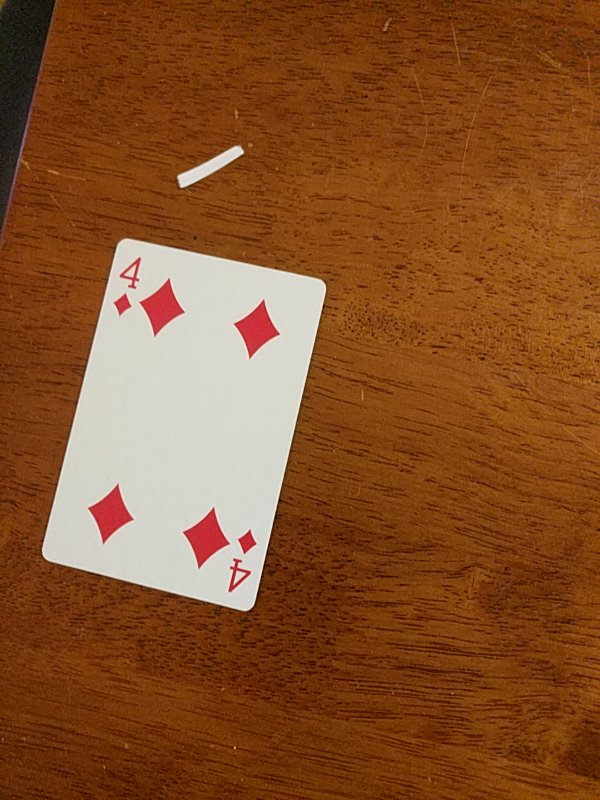Diamonds: (40, 237, 329, 616)
